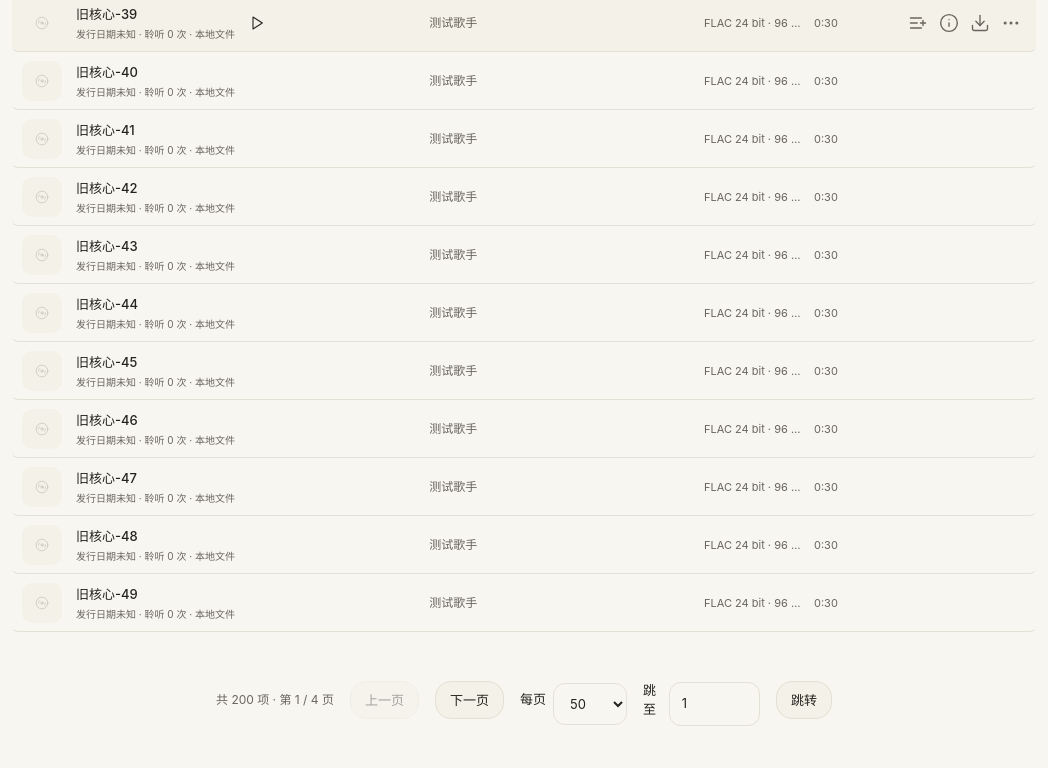
it: 曲目分页的请求生命周期 › 切换核心后不接受旧核心的列表与分页错误
(page scrolled)
Click the button "下一页": (470, 700) [435, 681, 504, 719]
Wait 600 ms
(page scrolled)
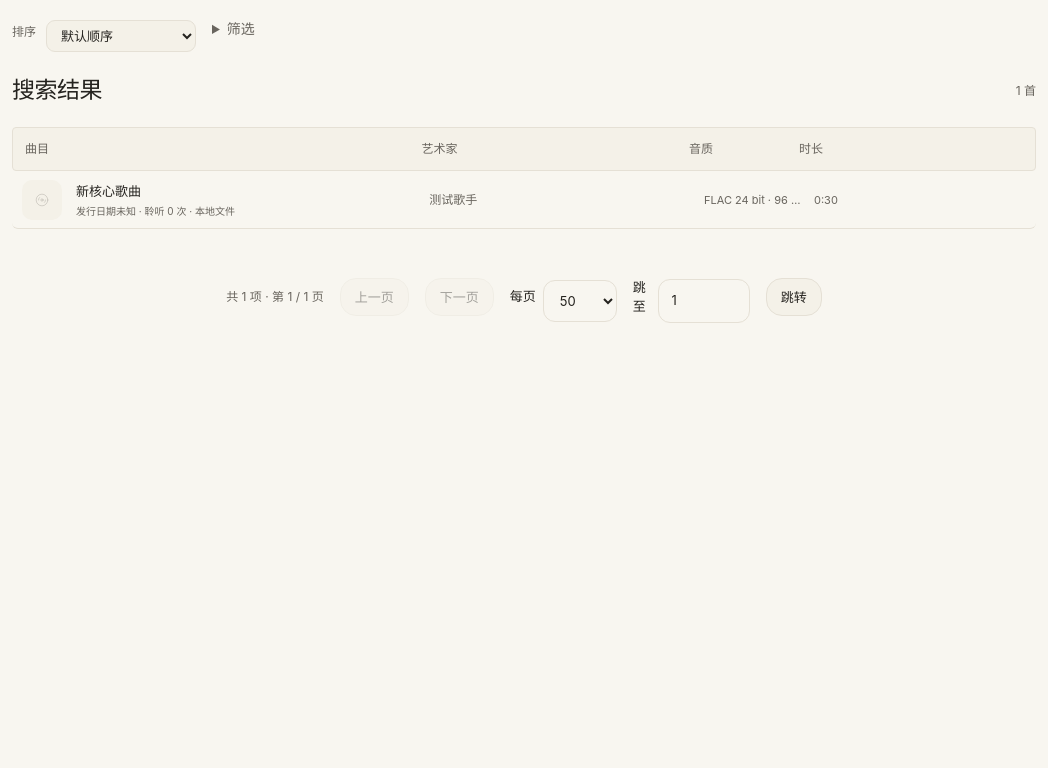
expect the text "新核心歌曲" is shown: met, box [76, 183, 141, 199]
